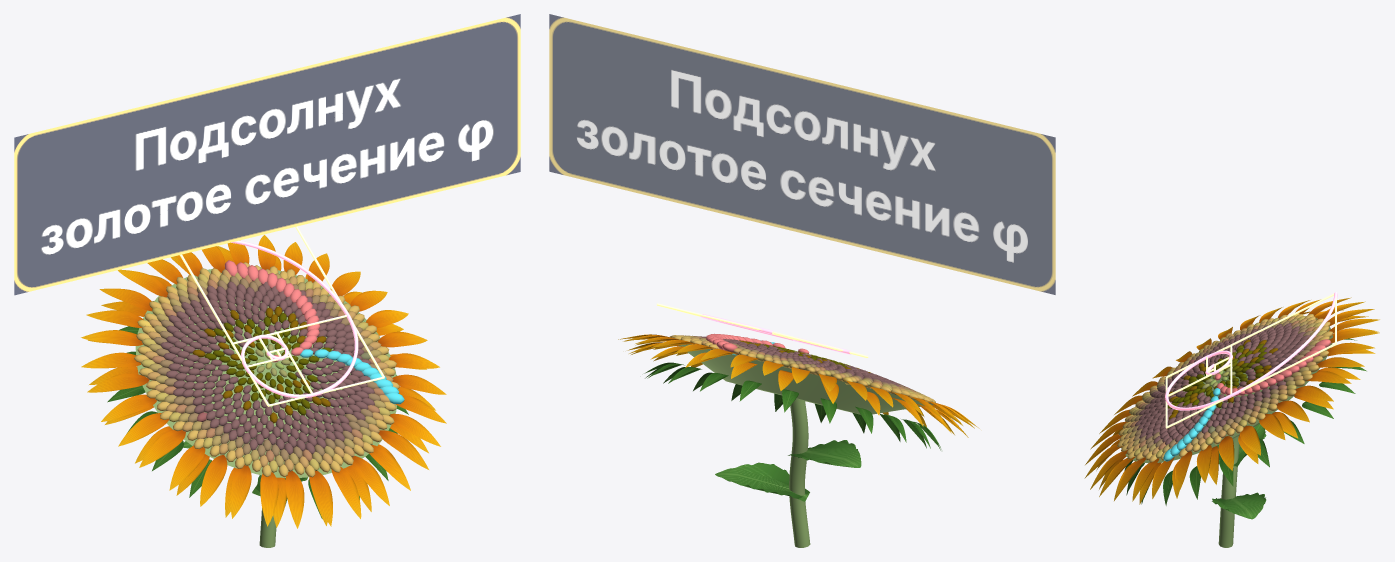
The model's file is sunflower.glb.
3 views of the same model, side by side, from view 1: azimuth 30°, elevation 25°; view 2: azimuth 150°, elevation 25°; view 3: azimuth 270°, elevation 25° (orthographic). The views are drawn at different scales.
Bounding box in the file's own units: 0.2281 × 0.2022 × 0.1293.
81 materials, 27 textured.
